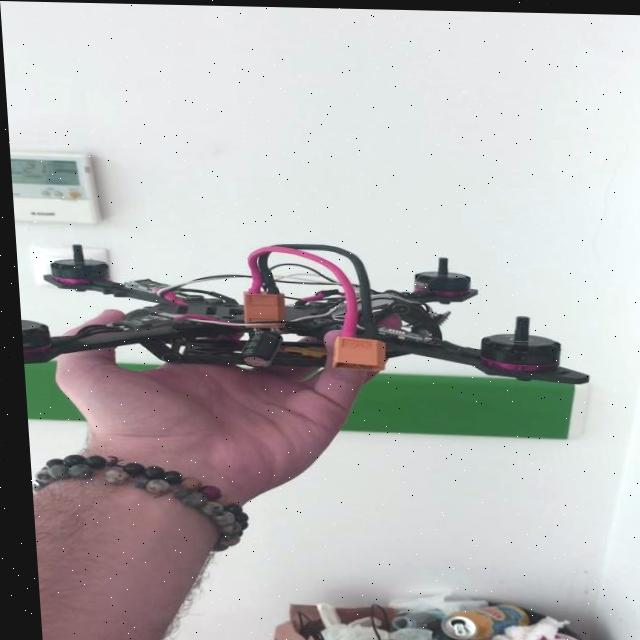drone: (13, 239, 591, 375)
